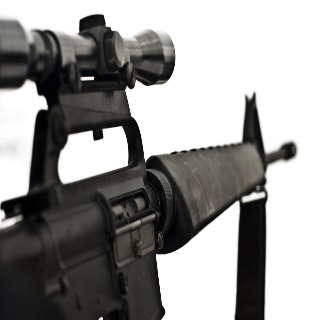rifle: (1, 11, 299, 320)
